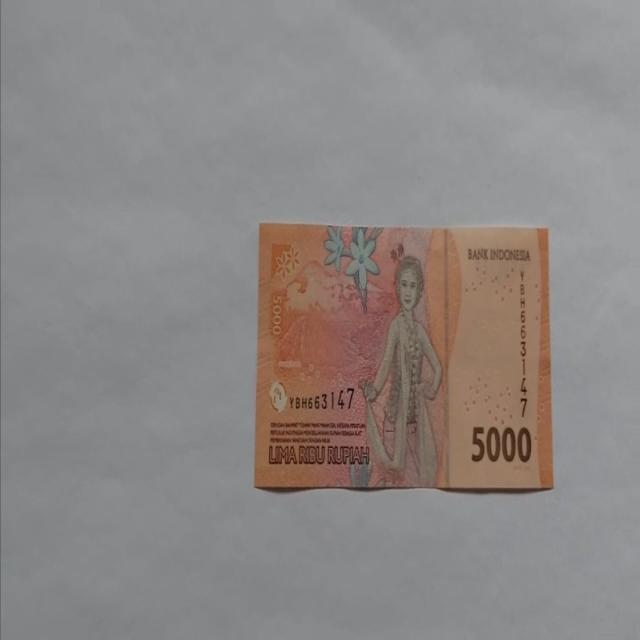lima ribu rupiah: (254, 220, 554, 492), (358, 254, 444, 487)
